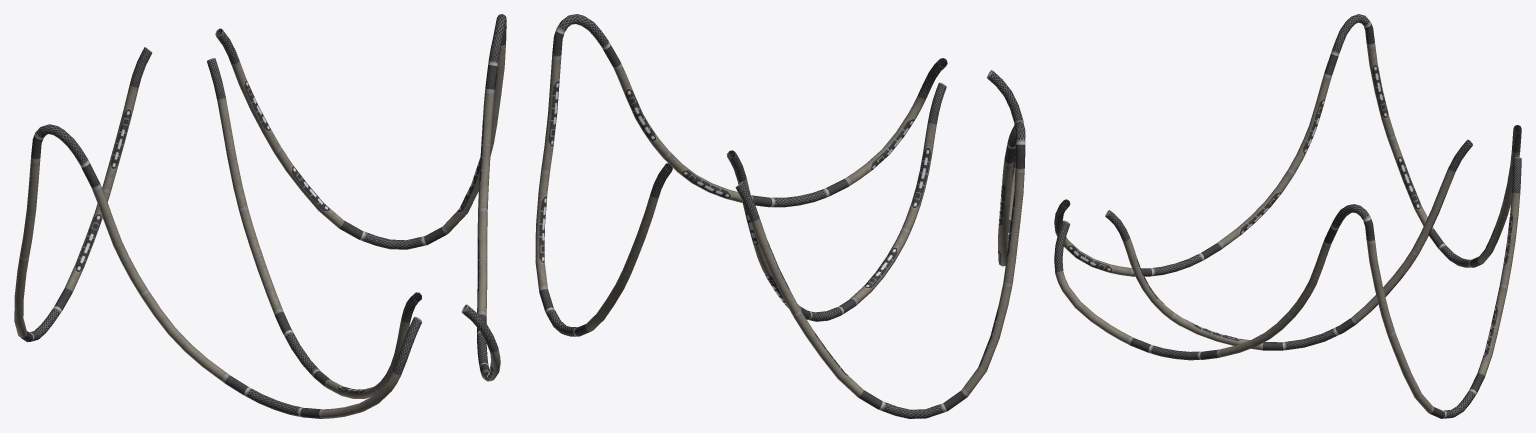
File: DroneDockCables.fbx
The picture shows the model from 3 angles, left to right: view 1: azimuth 30°, elevation 25°; view 2: azimuth 150°, elevation 25°; view 3: azimuth 270°, elevation 25°; orthographic projection. The views are drawn at different scales.
Visible parts, largest first — view 1: DroneDockCable; view 2: DroneDockCable; view 3: DroneDockCable.
Boxes of the visible parts, bbox=[...] form: DroneDockCable: bbox=[14, 14, 506, 418]; DroneDockCable: bbox=[535, 14, 1025, 418]; DroneDockCable: bbox=[1054, 14, 1521, 418].
Bounding box in the file's own units: 447 × 250 × 440.
Materials: 1 (1 with a texture image).
